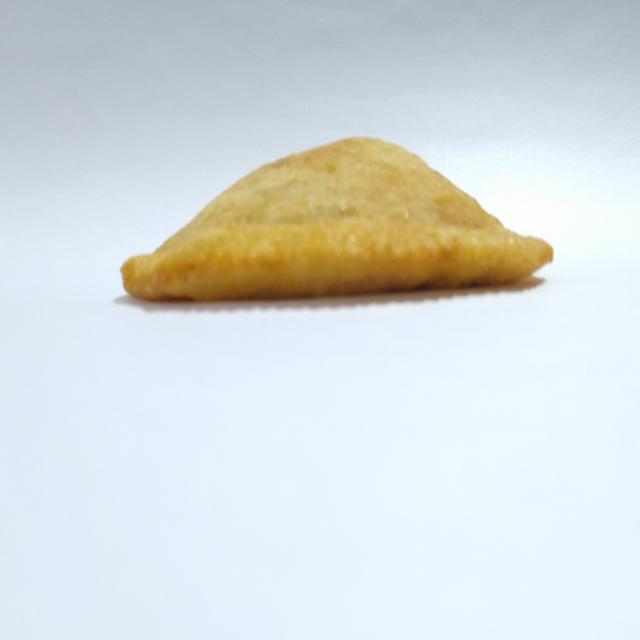Food: (112, 122, 560, 324)
